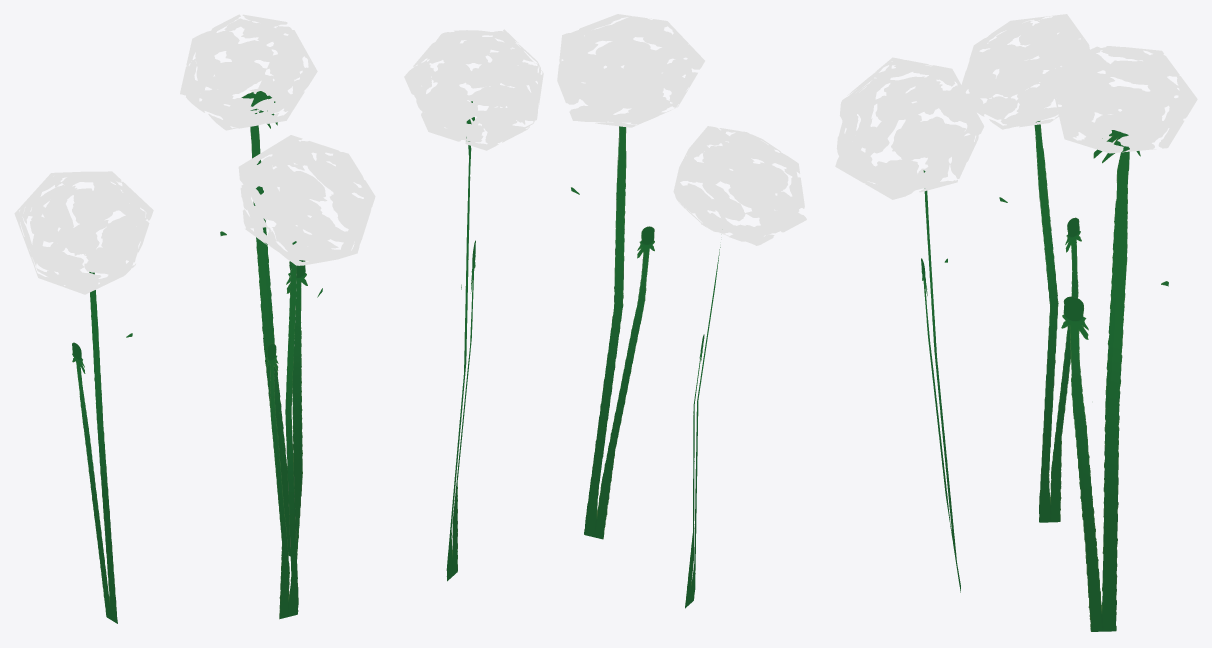
File: PT_Dandelion_03.fbx
3 renders of one model, left to right at view 1: azimuth 30°, elevation 25°; view 2: azimuth 150°, elevation 25°; view 3: azimuth 270°, elevation 25°, orthographic. The views are drawn at different scales.
Parts seen in each view (by area): view 1: PT_Dandelion_03_LOD0; view 2: PT_Dandelion_03_LOD0; view 3: PT_Dandelion_03_LOD0.
Boxes of the visible parts, x1,y1,x2,y2 form: PT_Dandelion_03_LOD0: (14,14,375,623); PT_Dandelion_03_LOD0: (404,14,806,608); PT_Dandelion_03_LOD0: (835,14,1197,631).
Size of what is drawn, in the model's own units: 30.32 by 48.35 by 28.17.
